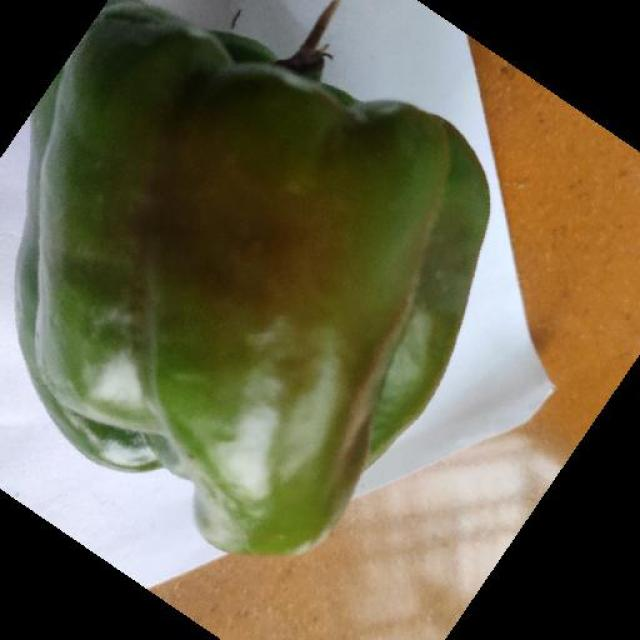Stale_Capsicum: (4, 0, 472, 519)
